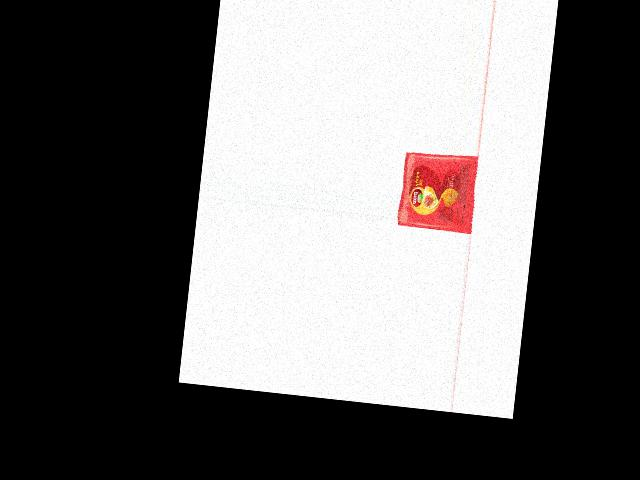cheese: (397, 151, 480, 234)
